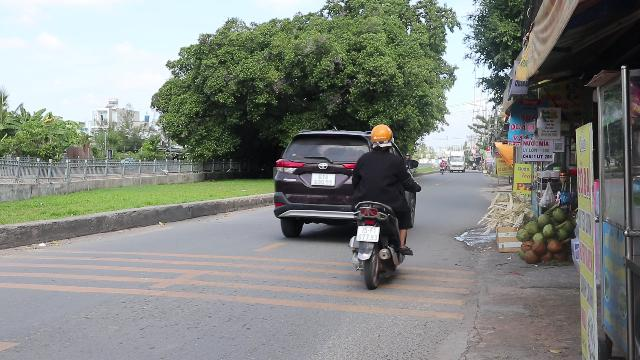helmet: (368, 124, 394, 150)
licenseplate: (356, 226, 379, 242)
motorcyclist: (346, 123, 418, 285)
